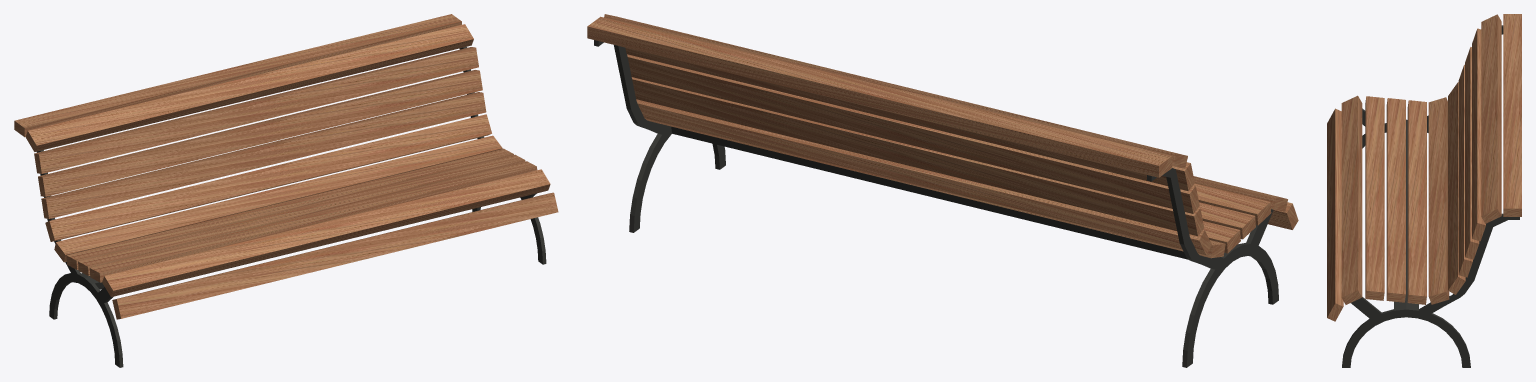
File: Лавка.glb
3 renders of one model, left to right at view 1: azimuth 30°, elevation 25°; view 2: azimuth 150°, elevation 25°; view 3: azimuth 270°, elevation 25°, orthographic. The views are drawn at different scales.
Parts seen in each view (by area): view 1: Cube.011, Circle; view 2: Cube.011, Circle; view 3: Cube.011, Circle.
Boxes of the visible parts, x1,y1,x2,y2 form: Cube.011: [14, 14, 558, 319]; Circle: [36, 47, 546, 367]; Cube.011: [587, 14, 1298, 258]; Circle: [594, 40, 1278, 367]; Cube.011: [1327, 14, 1521, 321]; Circle: [1342, 25, 1519, 367].
Size of the model in its own units: 5 by 1.93 by 2.12.
Materials: 2 (2 with a texture image).
